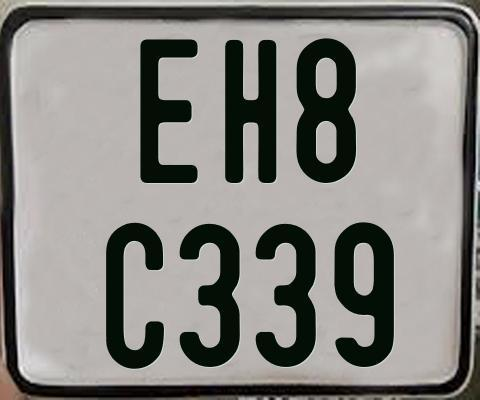3: (255, 223, 322, 370), (176, 221, 242, 365)
8: (294, 38, 359, 185)
9: (332, 222, 397, 372)
C: (103, 220, 166, 370)
E: (137, 38, 198, 182)
H: (225, 40, 277, 186)
